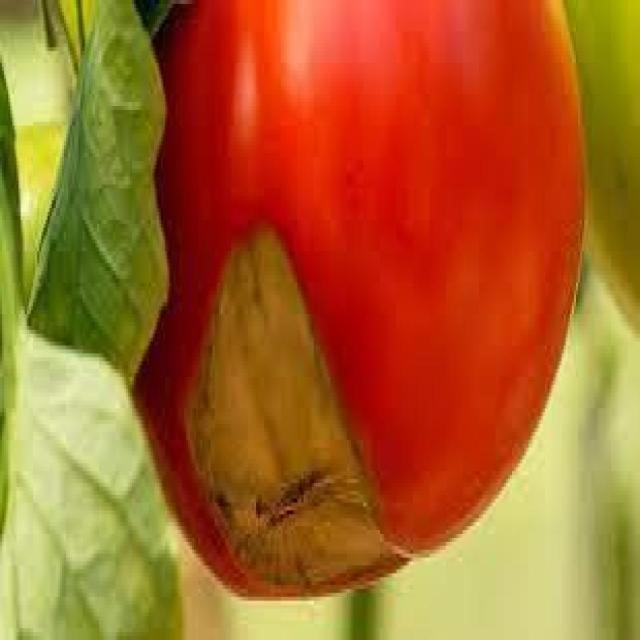Blossom End Rot Fruit: (118, 145, 284, 394)
